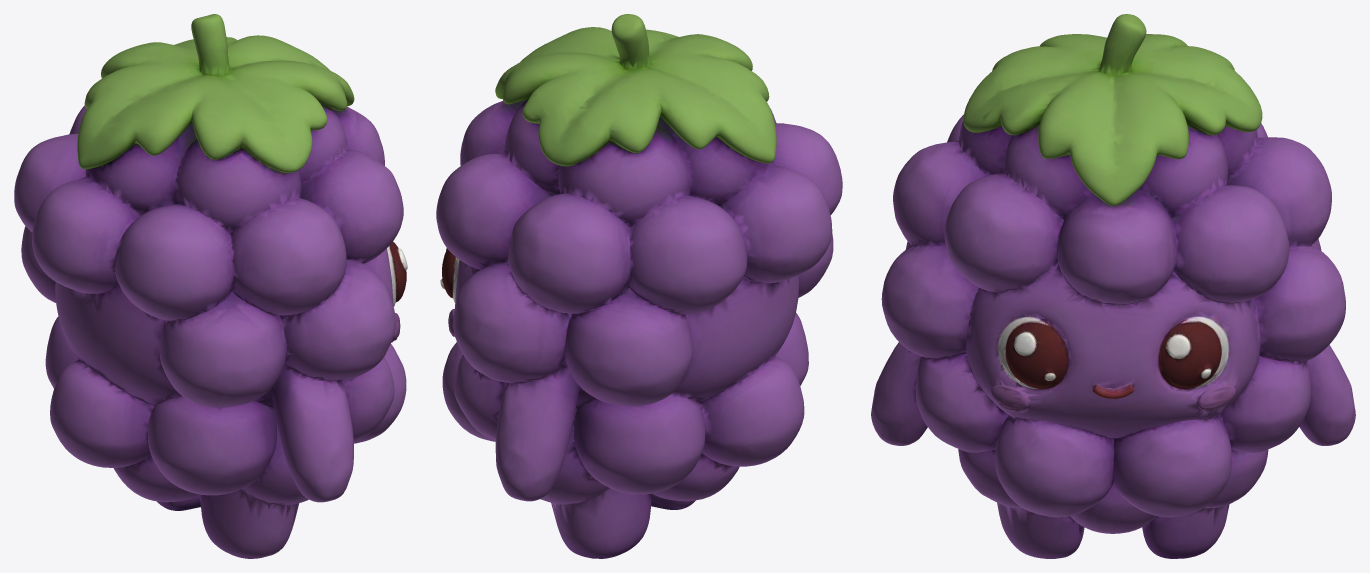
File: grapes.glb
The picture shows the model from 3 angles, left to right: view 1: azimuth 30°, elevation 25°; view 2: azimuth 150°, elevation 25°; view 3: azimuth 270°, elevation 25°; orthographic projection. The views are drawn at different scales.
Visible parts, largest first — view 1: tripo_node_cbf60ce7-7330-4867-a3e8-78952e8da240; view 2: tripo_node_cbf60ce7-7330-4867-a3e8-78952e8da240; view 3: tripo_node_cbf60ce7-7330-4867-a3e8-78952e8da240.
Boxes of the visible parts, <box> form: tripo_node_cbf60ce7-7330-4867-a3e8-78952e8da240: <box>14,14,407,558</box>; tripo_node_cbf60ce7-7330-4867-a3e8-78952e8da240: <box>436,14,842,558</box>; tripo_node_cbf60ce7-7330-4867-a3e8-78952e8da240: <box>871,14,1355,558</box>.
Bounding box in the file's own units: 0.709 × 0.9999 × 0.8286.
Materials: 1 (1 with a texture image).
